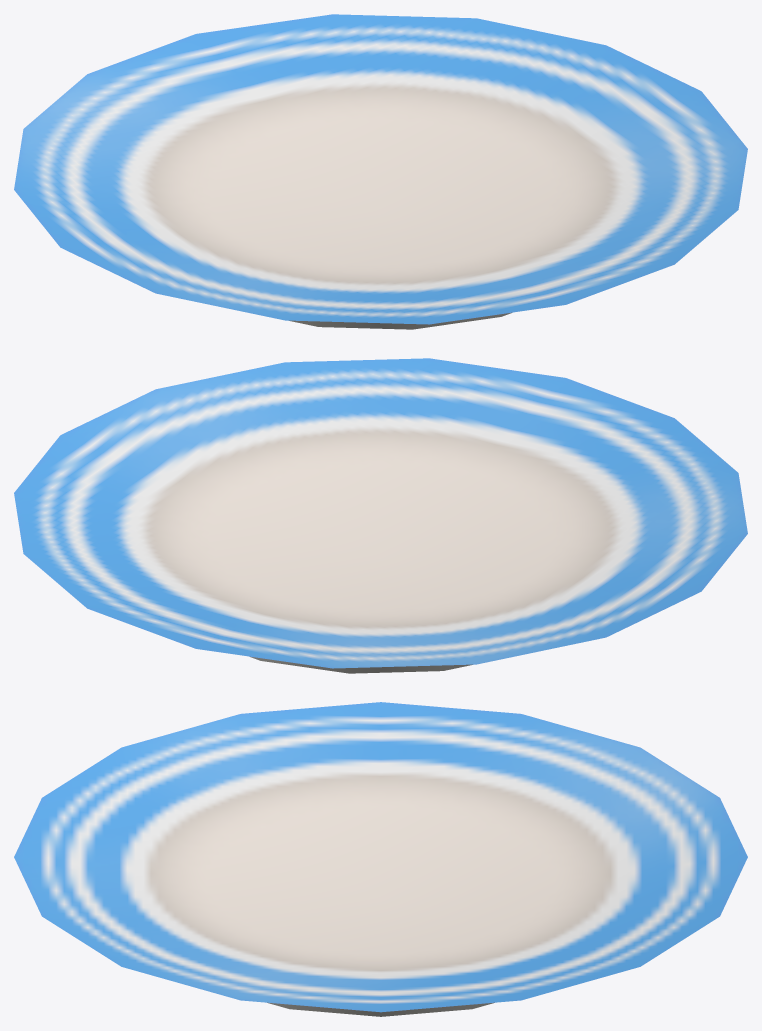
Rendered from KR_Round_tray_01_02.fbx.
3 views of the same model, one above another, from view 1: azimuth 30°, elevation 25°; view 2: azimuth 150°, elevation 25°; view 3: azimuth 270°, elevation 25° (orthographic).
Visible parts, largest first — view 1: kr_round_tray_01_02; view 2: kr_round_tray_01_02; view 3: kr_round_tray_01_02.
Boxes of the visible parts, box(x1,y1,x2,y2) form: kr_round_tray_01_02: box(14, 14, 747, 329); kr_round_tray_01_02: box(14, 358, 747, 673); kr_round_tray_01_02: box(14, 702, 747, 1016).
Size of the model in its own units: 18.43 by 1.63 by 18.43.
